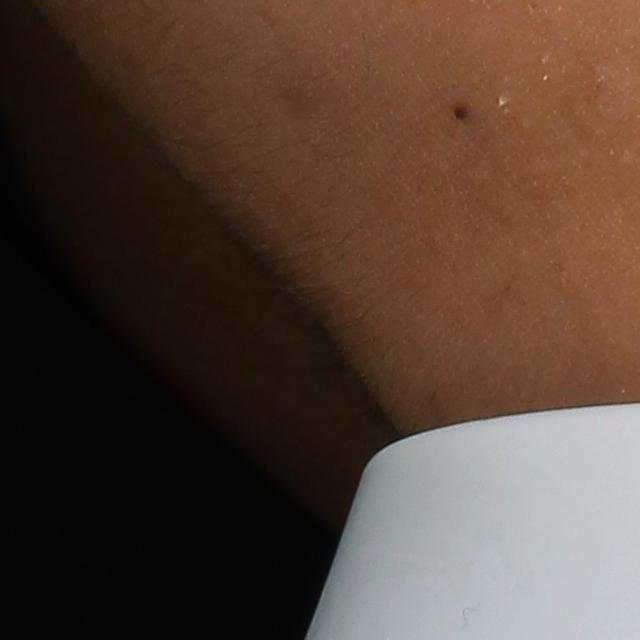nevus: (442, 97, 471, 124)
